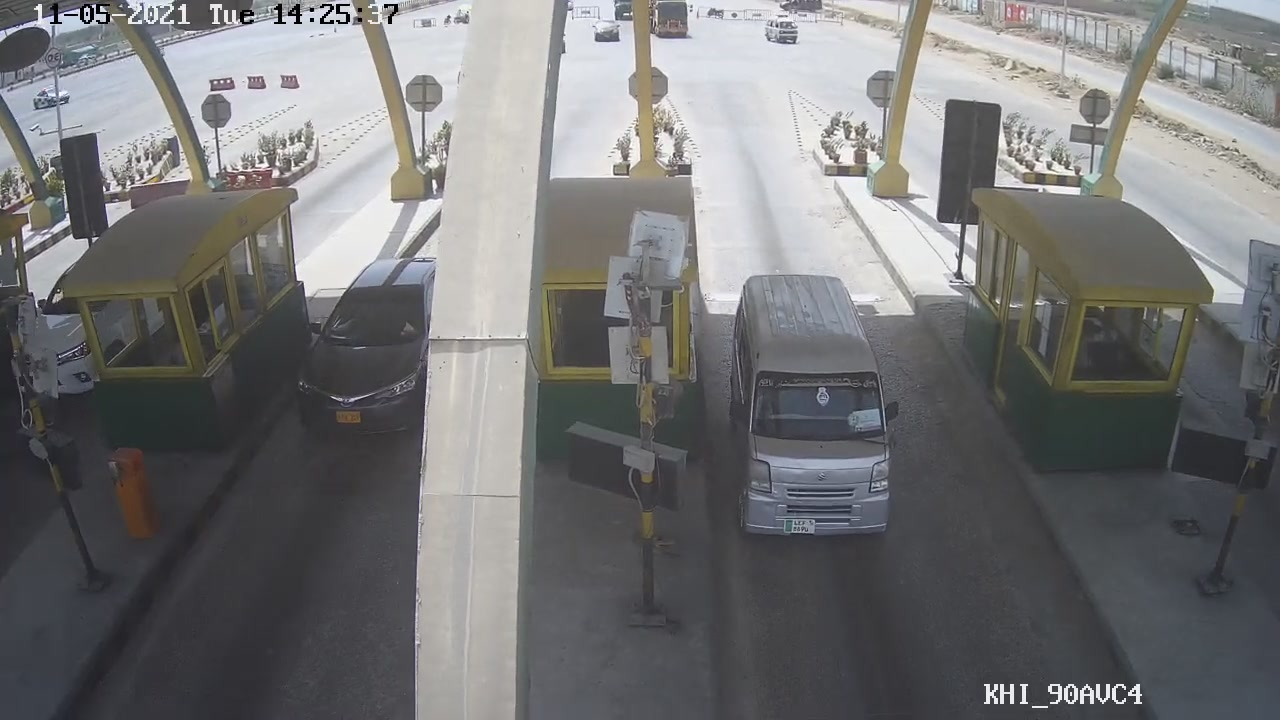F1: (725, 280, 902, 539)
